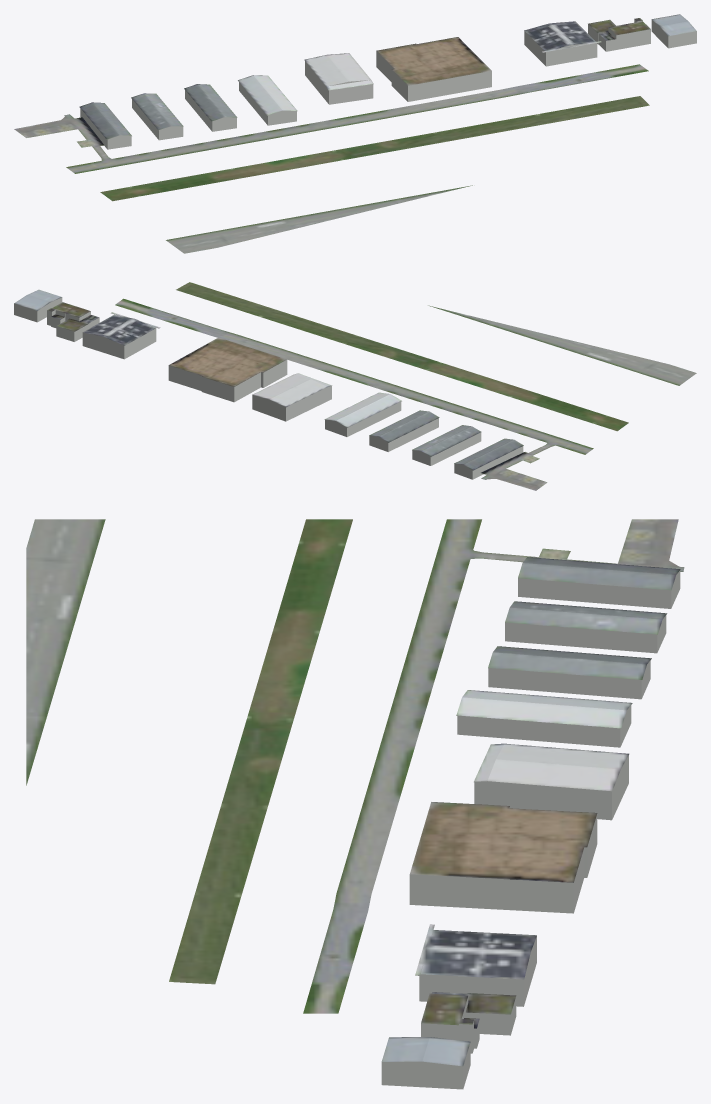
The model's file is LSZR_0_0.glb.
The picture shows the model from 3 angles, top to bottom: view 1: azimuth 30°, elevation 25°; view 2: azimuth 150°, elevation 25°; view 3: azimuth 270°, elevation 25°; orthographic projection. The views are drawn at different scales.
Parts seen in each view (by area): view 1: pavement_LSZR_pavement_5520_2523, building_464fec6a47665ffa, building_0f31fa8a0993077f, building_c01242602d630ae9, building_a197aa4f2f0492ab, building_29f72b1d39156988, building_65e5ab65c29b4a0c, building_a70f1ac5cd4e9a65, building_dfb46ed327e2a34a; view 2: pavement_LSZR_pavement_5520_2523, building_464fec6a47665ffa, building_0f31fa8a0993077f, building_c01242602d630ae9, building_a197aa4f2f0492ab, building_29f72b1d39156988, building_65e5ab65c29b4a0c, building_a70f1ac5cd4e9a65, building_dfb46ed327e2a34a; view 3: pavement_LSZR_pavement_5520_2523, building_464fec6a47665ffa, building_c01242602d630ae9, building_0f31fa8a0993077f, building_a197aa4f2f0492ab, building_65e5ab65c29b4a0c, building_29f72b1d39156988, building_a70f1ac5cd4e9a65, building_dfb46ed327e2a34a.
Part boxes in pixels (<box>): pavement_LSZR_pavement_5520_2523: <box>14,64,649,253</box>; building_464fec6a47665ffa: <box>304,37,491,90</box>; building_0f31fa8a0993077f: <box>305,51,491,104</box>; building_c01242602d630ae9: <box>79,84,237,139</box>; building_a197aa4f2f0492ab: <box>524,14,696,52</box>; building_29f72b1d39156988: <box>524,19,696,66</box>; building_65e5ab65c29b4a0c: <box>80,90,236,149</box>; building_a70f1ac5cd4e9a65: <box>238,75,297,115</box>; building_dfb46ed327e2a34a: <box>239,82,296,125</box>; pavement_LSZR_pavement_5520_2523: <box>115,282,696,490</box>; building_464fec6a47665ffa: <box>168,337,332,407</box>; building_0f31fa8a0993077f: <box>168,360,331,421</box>; building_c01242602d630ae9: <box>369,410,523,470</box>; building_a197aa4f2f0492ab: <box>14,289,160,345</box>; building_29f72b1d39156988: <box>14,297,156,359</box>; building_65e5ab65c29b4a0c: <box>369,418,523,479</box>; building_a70f1ac5cd4e9a65: <box>324,392,401,427</box>; building_dfb46ed327e2a34a: <box>325,402,401,436</box>; pavement_LSZR_pavement_5520_2523: <box>26,519,684,1013</box>; building_464fec6a47665ffa: <box>409,743,629,883</box>; building_c01242602d630ae9: <box>488,557,680,680</box>; building_0f31fa8a0993077f: <box>409,755,628,913</box>; building_a197aa4f2f0492ab: <box>381,924,536,1066</box>; building_65e5ab65c29b4a0c: <box>488,571,680,699</box>; building_29f72b1d39156988: <box>381,937,536,1089</box>; building_a70f1ac5cd4e9a65: <box>456,690,632,728</box>; building_dfb46ed327e2a34a: <box>457,705,631,747</box>.
Bounding box in the file's own units: 569 × 16.49 × 281.
Materials: 3 (2 with a texture image).
